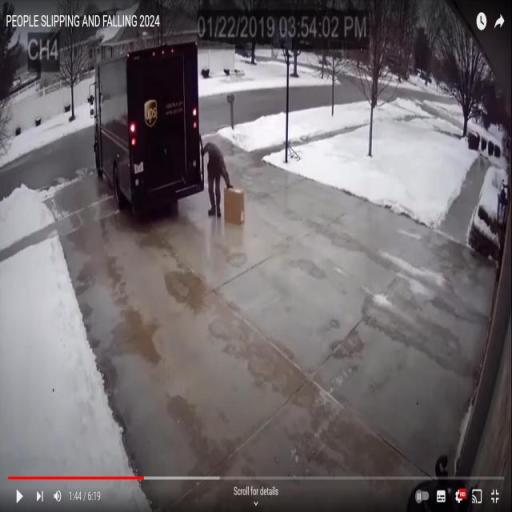Fall: (197, 137, 234, 222)
